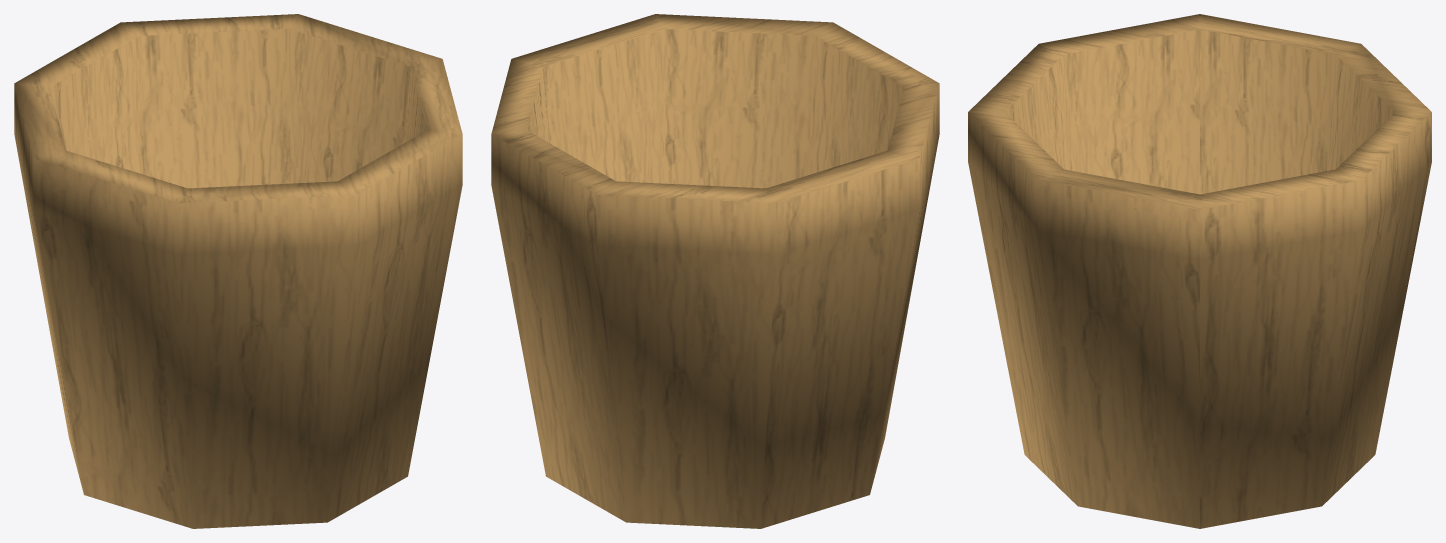
File: wooden_bucket.obj
3 renders of one model, left to right at view 1: azimuth 30°, elevation 25°; view 2: azimuth 150°, elevation 25°; view 3: azimuth 270°, elevation 25°, orthographic.
Visible parts, largest first — view 1: Cube; view 2: Cube; view 3: Cube.
Part boxes in pixels (left/top/right/bottom): Cube: left=14, top=14, right=462, bottom=528; Cube: left=491, top=14, right=939, bottom=528; Cube: left=968, top=14, right=1431, bottom=528.
Bounding box in the file's own units: 2.87 × 2.34 × 2.87.
